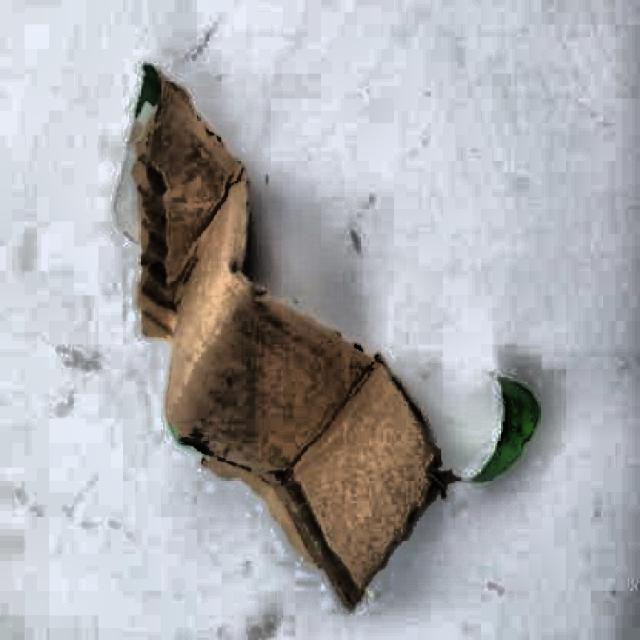Cardbox: (90, 53, 519, 638)
